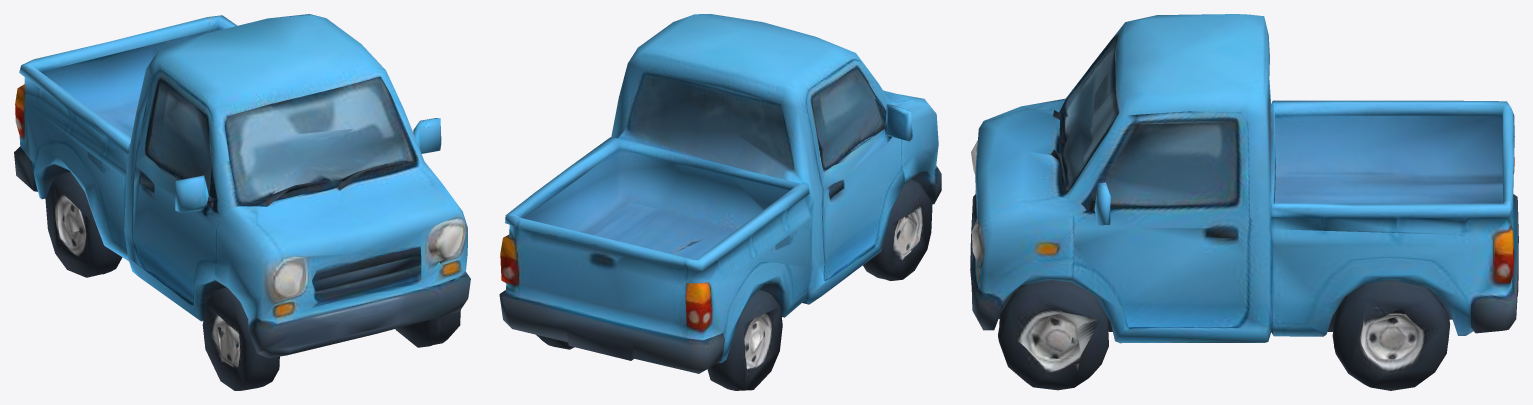
The model's file is ute.glb.
3 views of the same model, side by side, from view 1: azimuth 30°, elevation 25°; view 2: azimuth 150°, elevation 25°; view 3: azimuth 270°, elevation 25° (orthographic). The views are drawn at different scales.
Visible parts, largest first — view 1: model; view 2: model; view 3: model.
Boxes of the visible parts, x1=… form: model: x1=14, y1=14, x2=470, y2=390; model: x1=499, y1=14, x2=941, y2=390; model: x1=970, y1=14, x2=1518, y2=390.
Bounding box in the file's own units: 1.14 × 1.1 × 1.88.
1 material, 1 textured.
